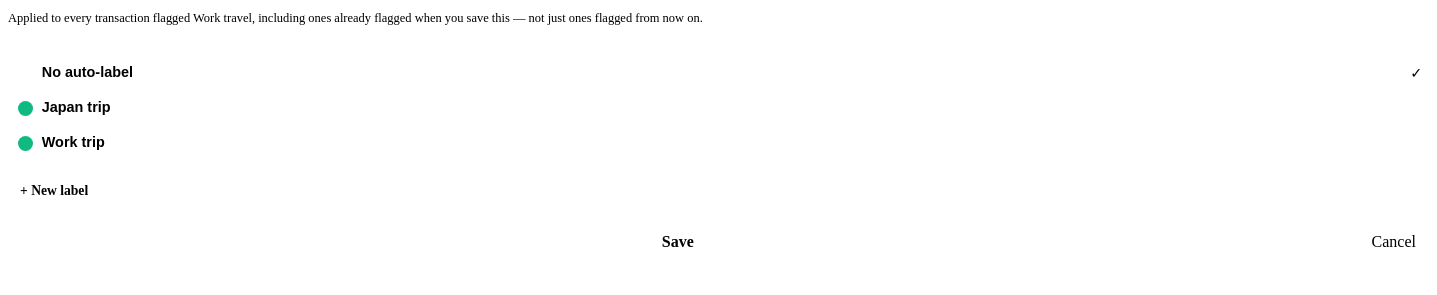
FlagAutoLabelEditor › shows the failure and stays open when the save rejects
The image size is (1437, 295).
Step 1. Click the button "Save" → (678, 242), box [8,222,1348,263]
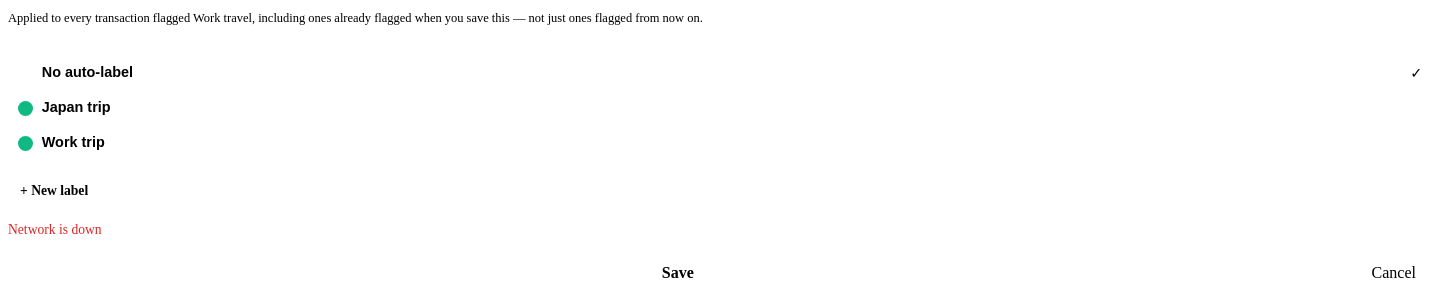
Expected: the text "Network is down" is shown, [8,222,102,237]
